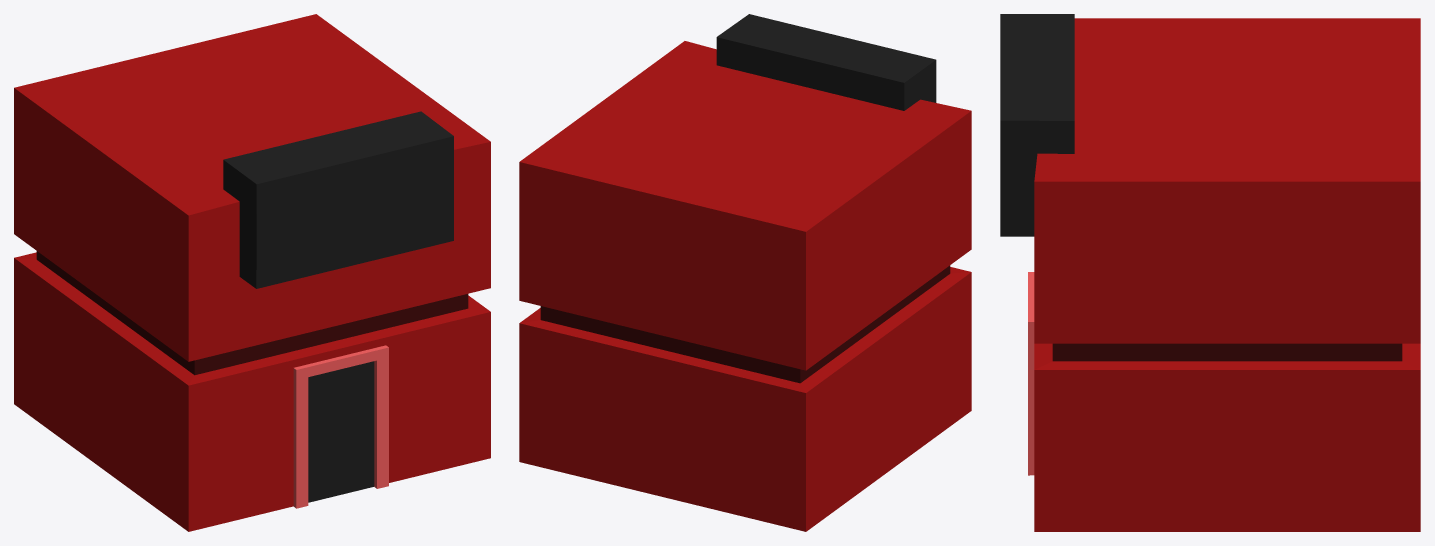
Rendered from Castle.fbx.
3 renders of one model, left to right at view 1: azimuth 30°, elevation 25°; view 2: azimuth 150°, elevation 25°; view 3: azimuth 270°, elevation 25°, orthographic. The views are drawn at different scales.
Parts seen in each view (by area): view 1: kale; view 2: kale; view 3: kale.
Boxes of the visible parts, <box> form: kale: <box>14,14,490,531</box>; kale: <box>519,14,971,531</box>; kale: <box>1000,14,1420,531</box>.
Size of the model in its own units: 6.54 by 7.15 by 7.11.
